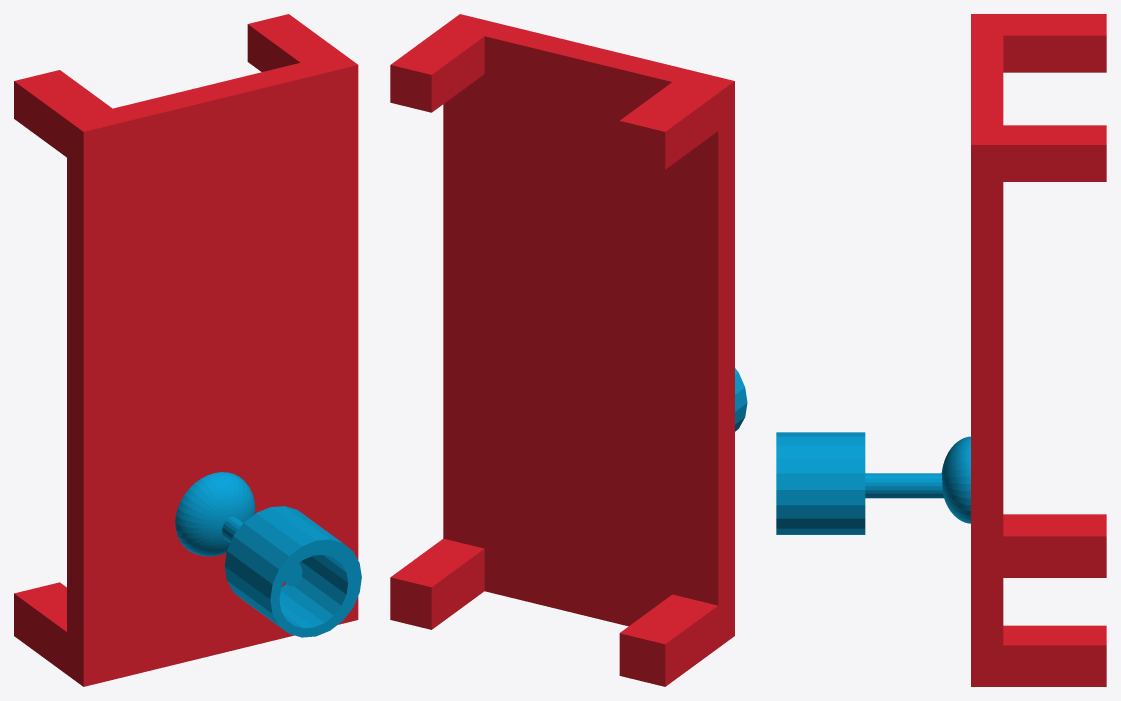
Rendered from tinker.obj.
3 renders of one model, left to right at view 1: azimuth 30°, elevation 25°; view 2: azimuth 150°, elevation 25°; view 3: azimuth 270°, elevation 25°, orthographic. The views are drawn at different scales.
Visible parts, largest first — view 1: group_0_15277357, group_0_40919; view 2: group_0_15277357, group_0_40919; view 3: group_0_15277357, group_0_40919.
Part boxes in pixels (bbox=[...]): group_0_15277357: bbox=[14, 14, 358, 686]; group_0_40919: bbox=[175, 472, 361, 637]; group_0_15277357: bbox=[390, 14, 734, 686]; group_0_40919: bbox=[735, 368, 747, 431]; group_0_15277357: bbox=[971, 14, 1106, 686]; group_0_40919: bbox=[776, 432, 970, 534].
Bounding box in the file's own units: 60 × 116 × 64.
